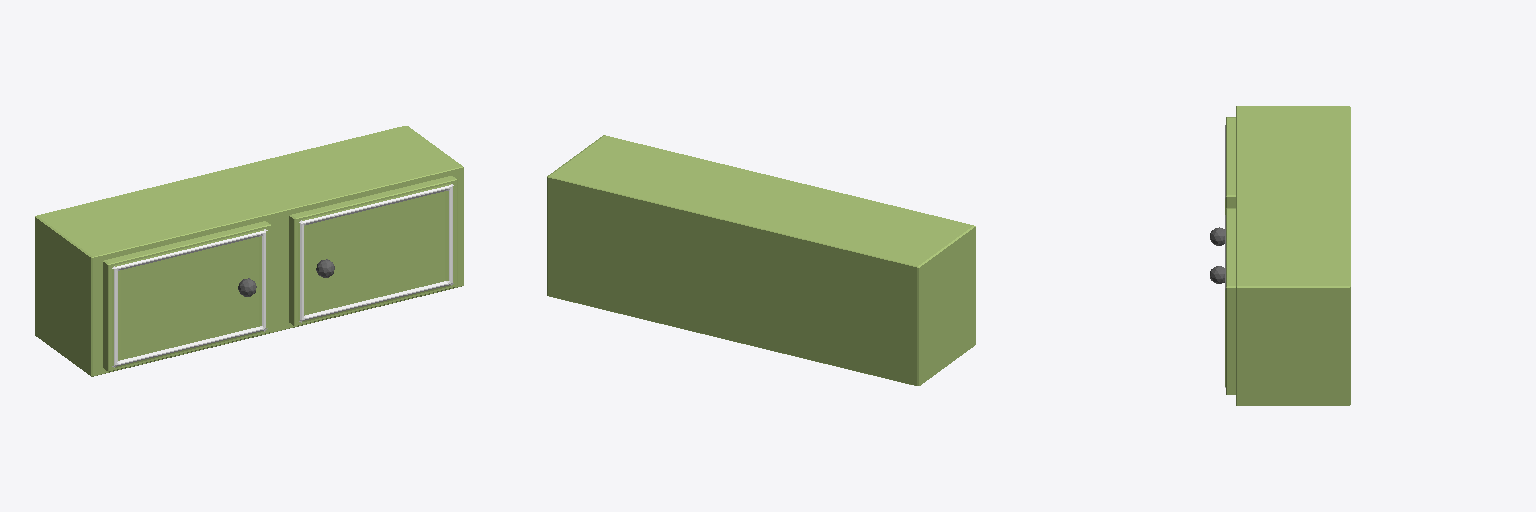
File: green-kitchen1.obj
The picture shows the model from 3 angles: view 1: azimuth 30°, elevation 25°; view 2: azimuth 150°, elevation 25°; view 3: azimuth 270°, elevation 25°; orthographic projection.
Visible parts, largest first — view 1: green_kitchen1:WallFBXASC032shelf; view 2: green_kitchen1:WallFBXASC032shelf; view 3: green_kitchen1:WallFBXASC032shelf.
Part boxes in pixels (bbox=[...]): green_kitchen1:WallFBXASC032shelf: bbox=[35, 126, 463, 376]; green_kitchen1:WallFBXASC032shelf: bbox=[547, 135, 975, 385]; green_kitchen1:WallFBXASC032shelf: bbox=[1210, 106, 1350, 405].
Bounding box in the file's own units: 238 × 73.09 × 77.96.